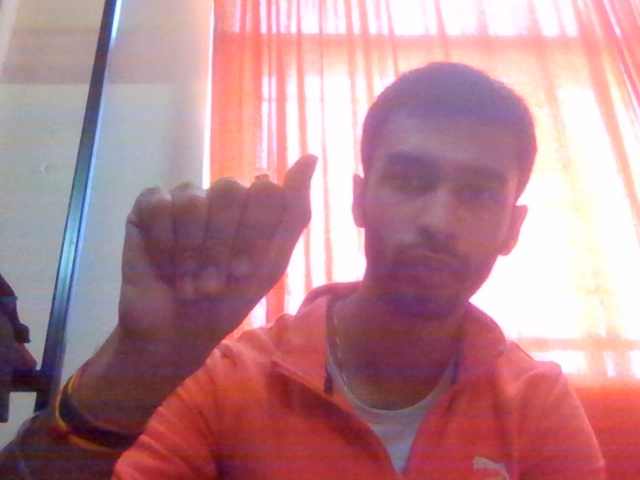A: (109, 139, 347, 426)
